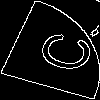C: (25, 25, 97, 76)
